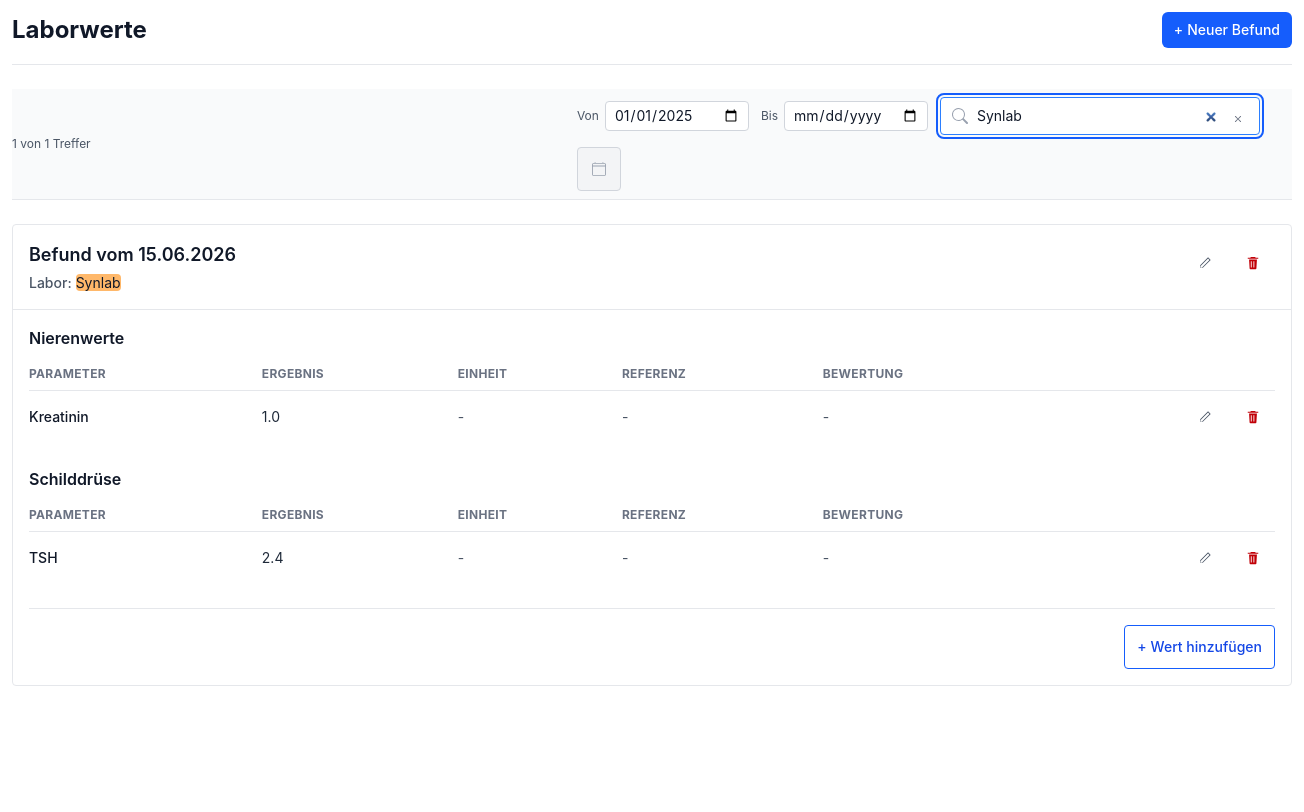
Scenario: LabValuesView › search filter (P-22b) › clears query and dates when the SearchInput X button is clicked (Q15)
expect the search field holds "Synlab": met, box [940, 97, 1260, 135]
expect the element with test id "date-range-filter" is shown: met, box [577, 101, 928, 131]
Step 1. Click the button with test id "search-input-clear" → [1238, 119], box [1216, 97, 1260, 141]
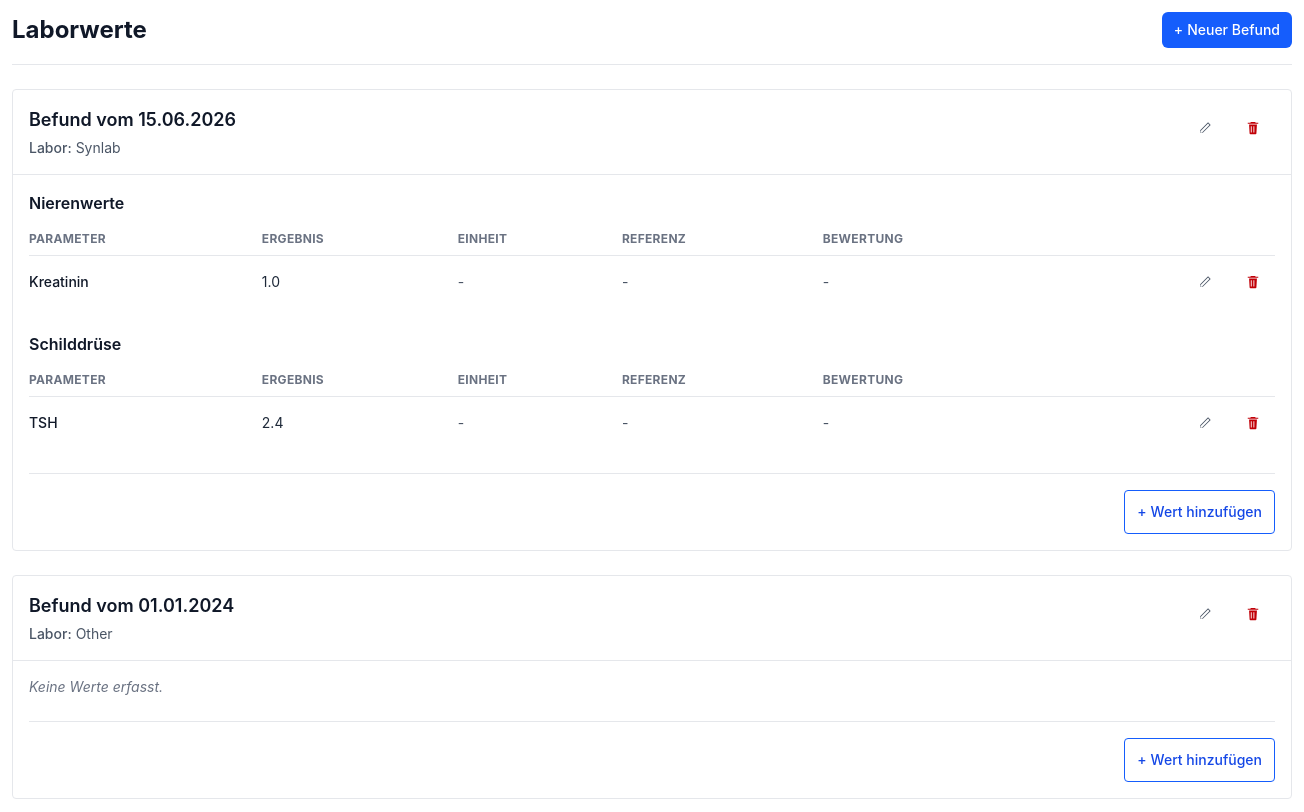
expect the element with test id "date-range-filter" is gone: met
